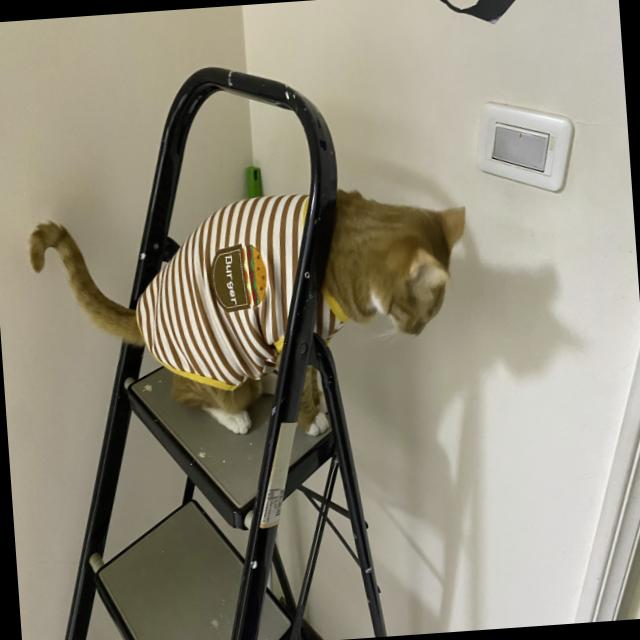cat3: (24, 178, 482, 456)
